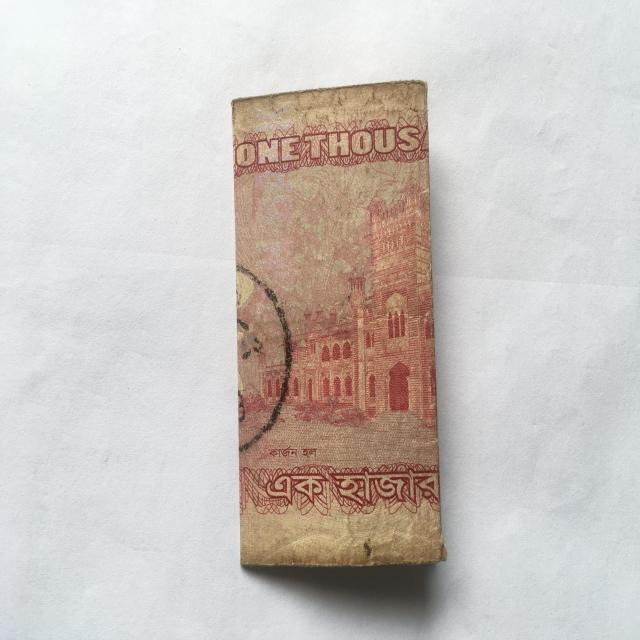Taka: (226, 80, 454, 586)
